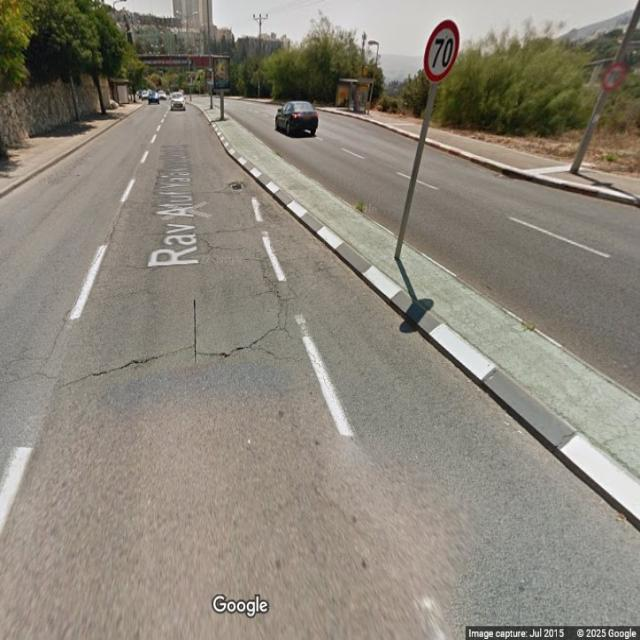medium_pothole: (230, 177, 243, 193)
